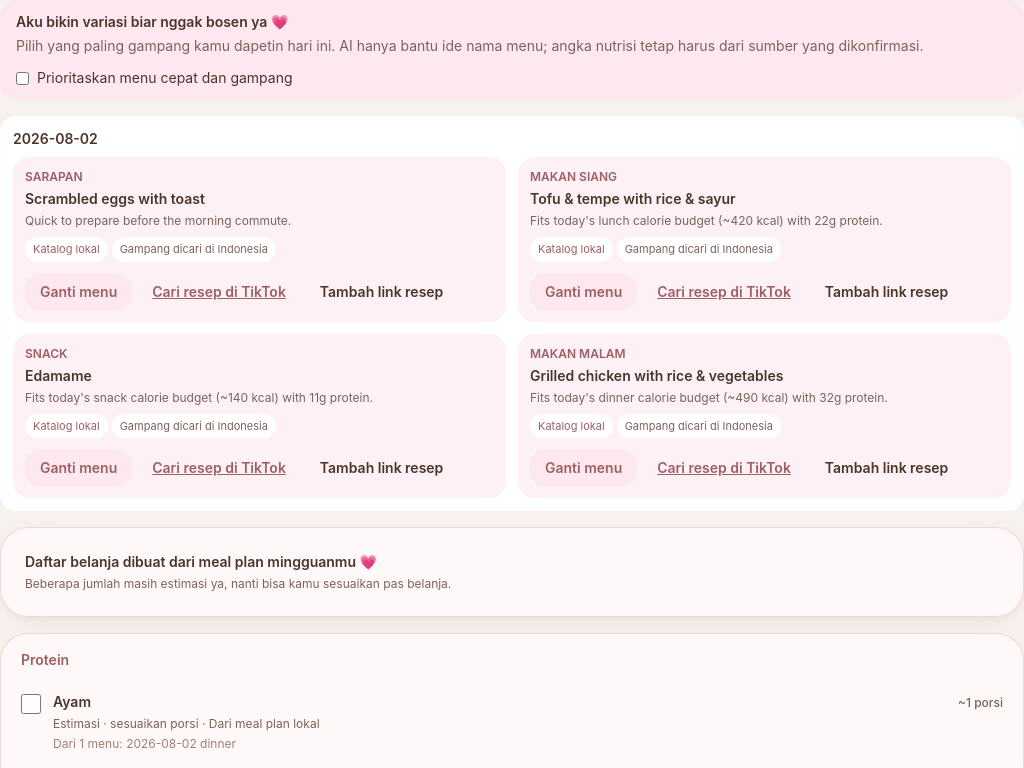
Test: WeeklyMealPlanExperience › validates and replaces a manual recipe link
Click the button "Tambah link resep" below "Sarapan": [382, 292] box [306,274,457,310]
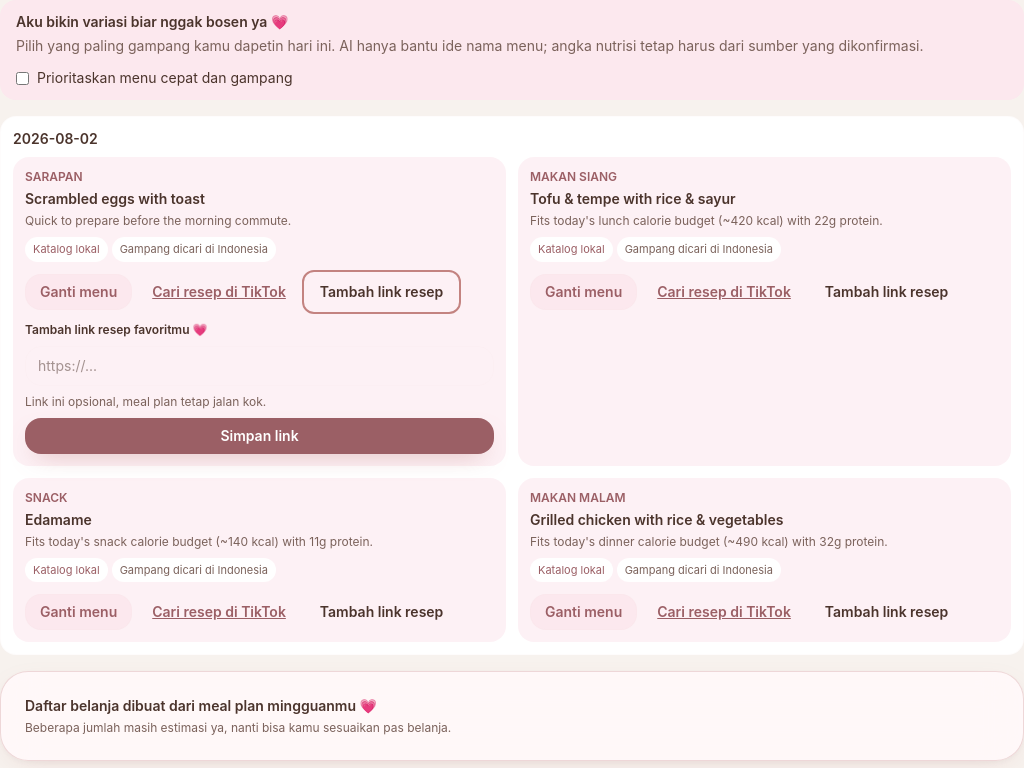
In the field labelled "Tambah link resep favoritmu 💗": [260, 366] box [25,346,494,386], type "not-a-url"
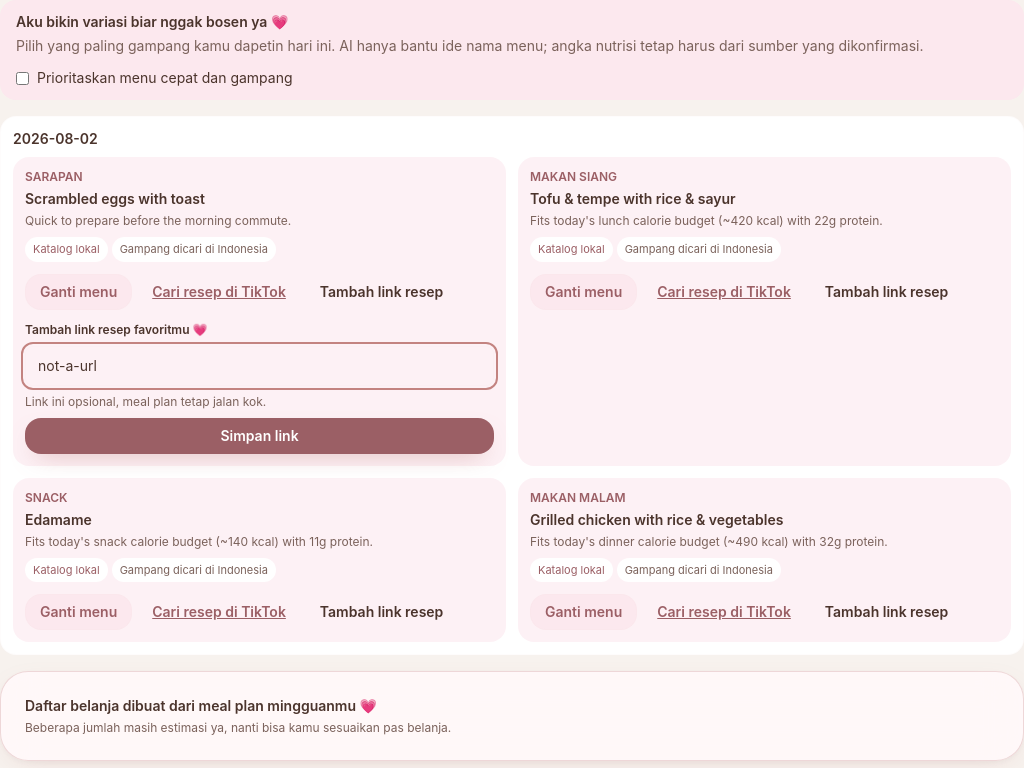
Click the button "Simpan link": [260, 436] box [25,418,494,454]
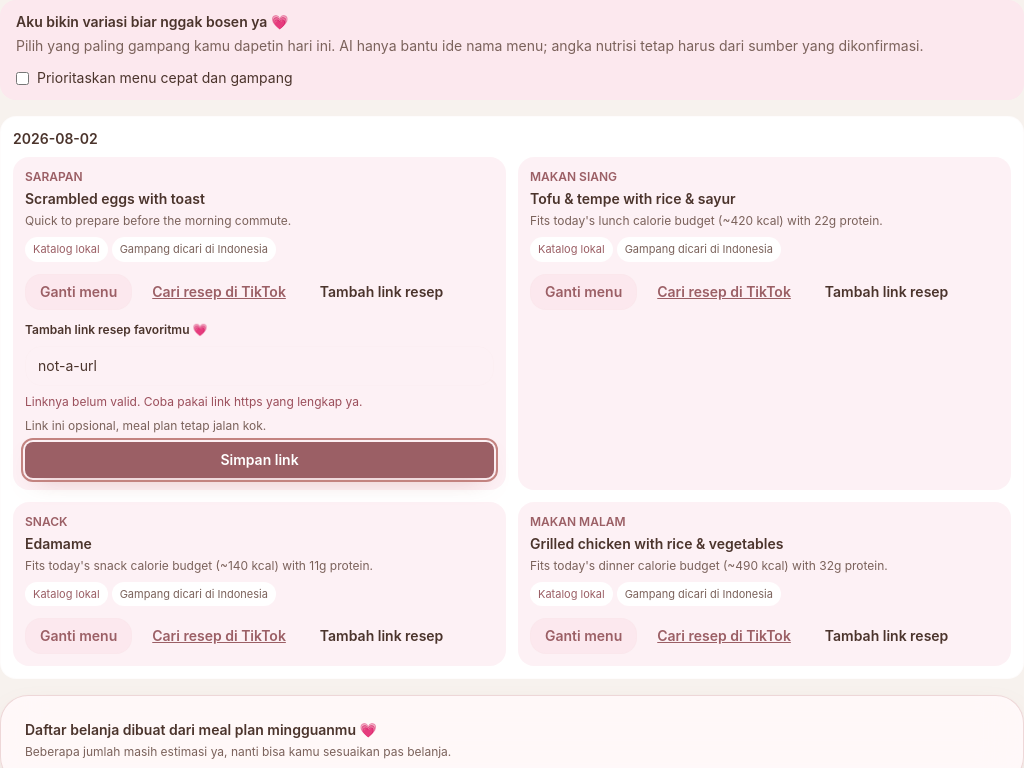
Now the message shows "belum valid", box [25,394,362,408]
Replace the text in the field labelled "Tambah link resep favoritmu 💗" with "https://www.youtube.com/watch?v=abc": [260, 366] box [25,346,494,386]
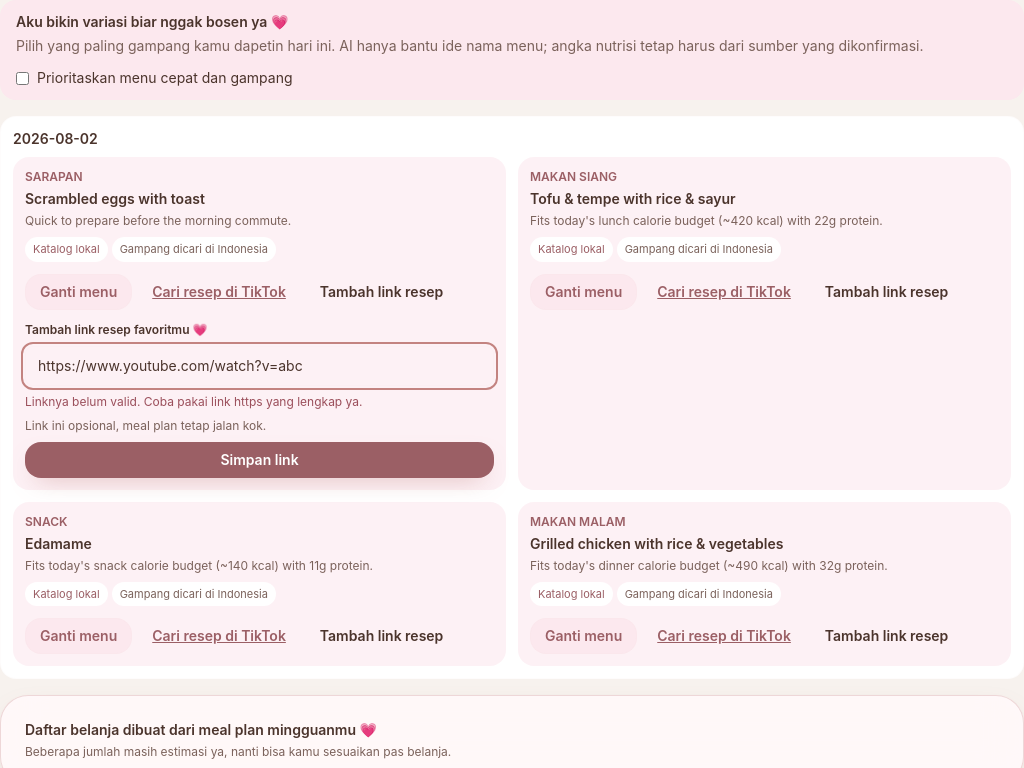
Click the button "Simpan link": [260, 460] box [25,442,494,478]
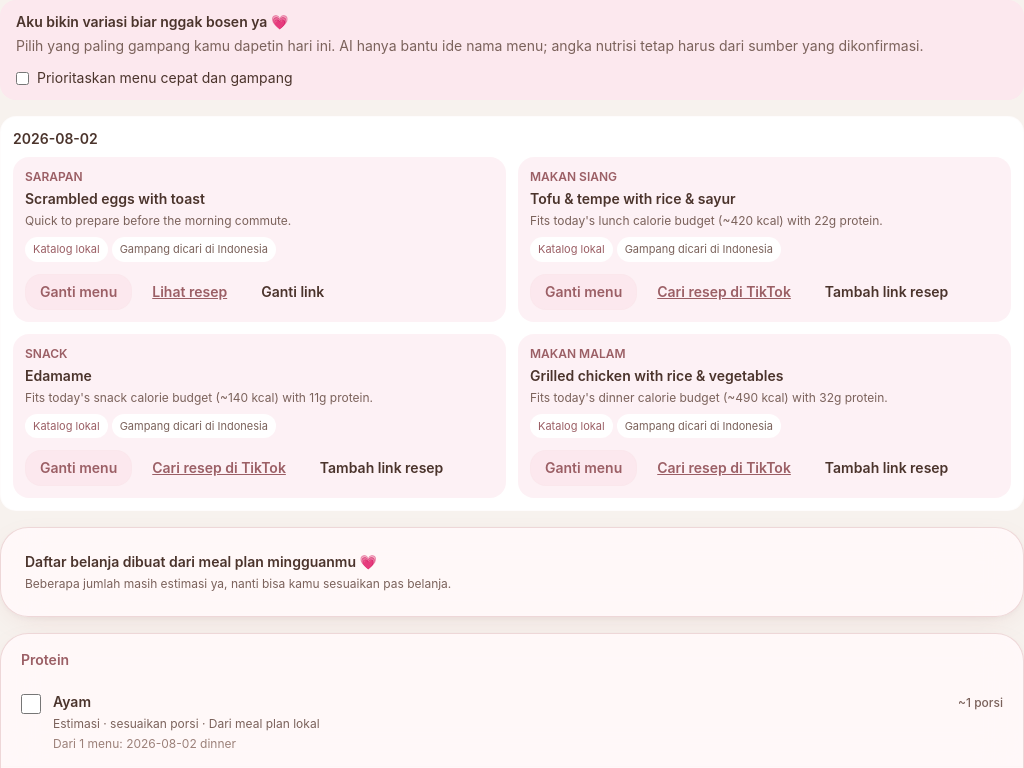
Now the link "Lihat resep" has attribute href="https://www.youtube.com/watch?v=abc", box [152,282,227,300]
Click the button "Ganti link": [293, 292] box [247,274,338,310]
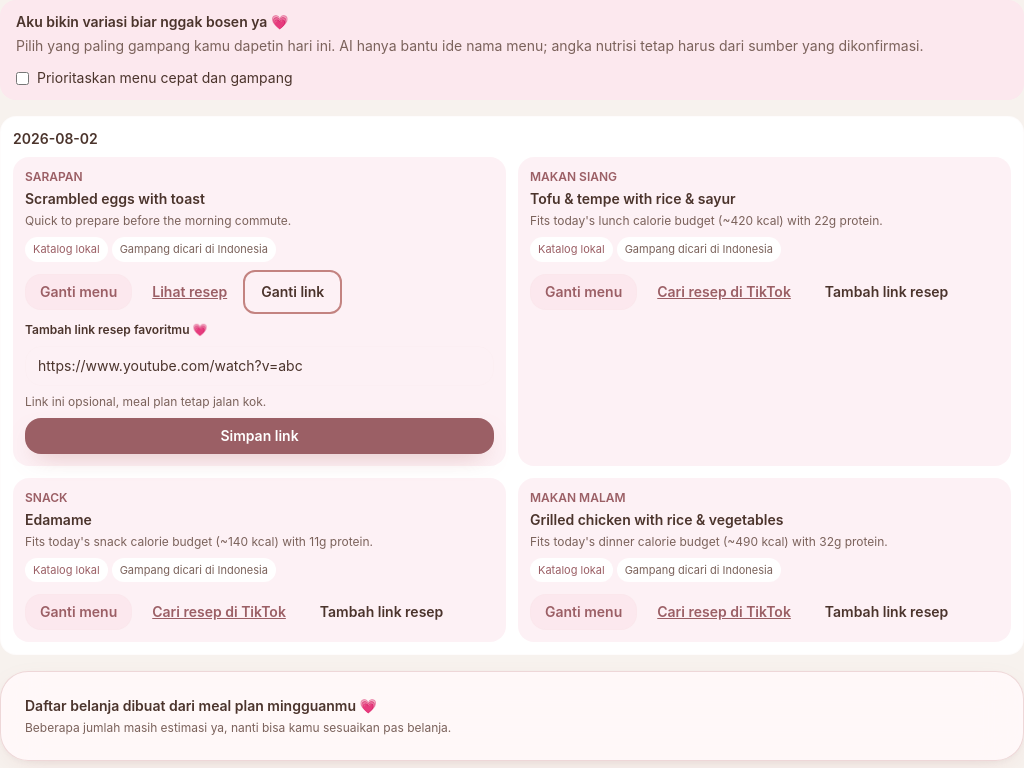
Now the field showing "https://www.youtube.com/watch?v=abc" is shown, box [25,346,494,386]
